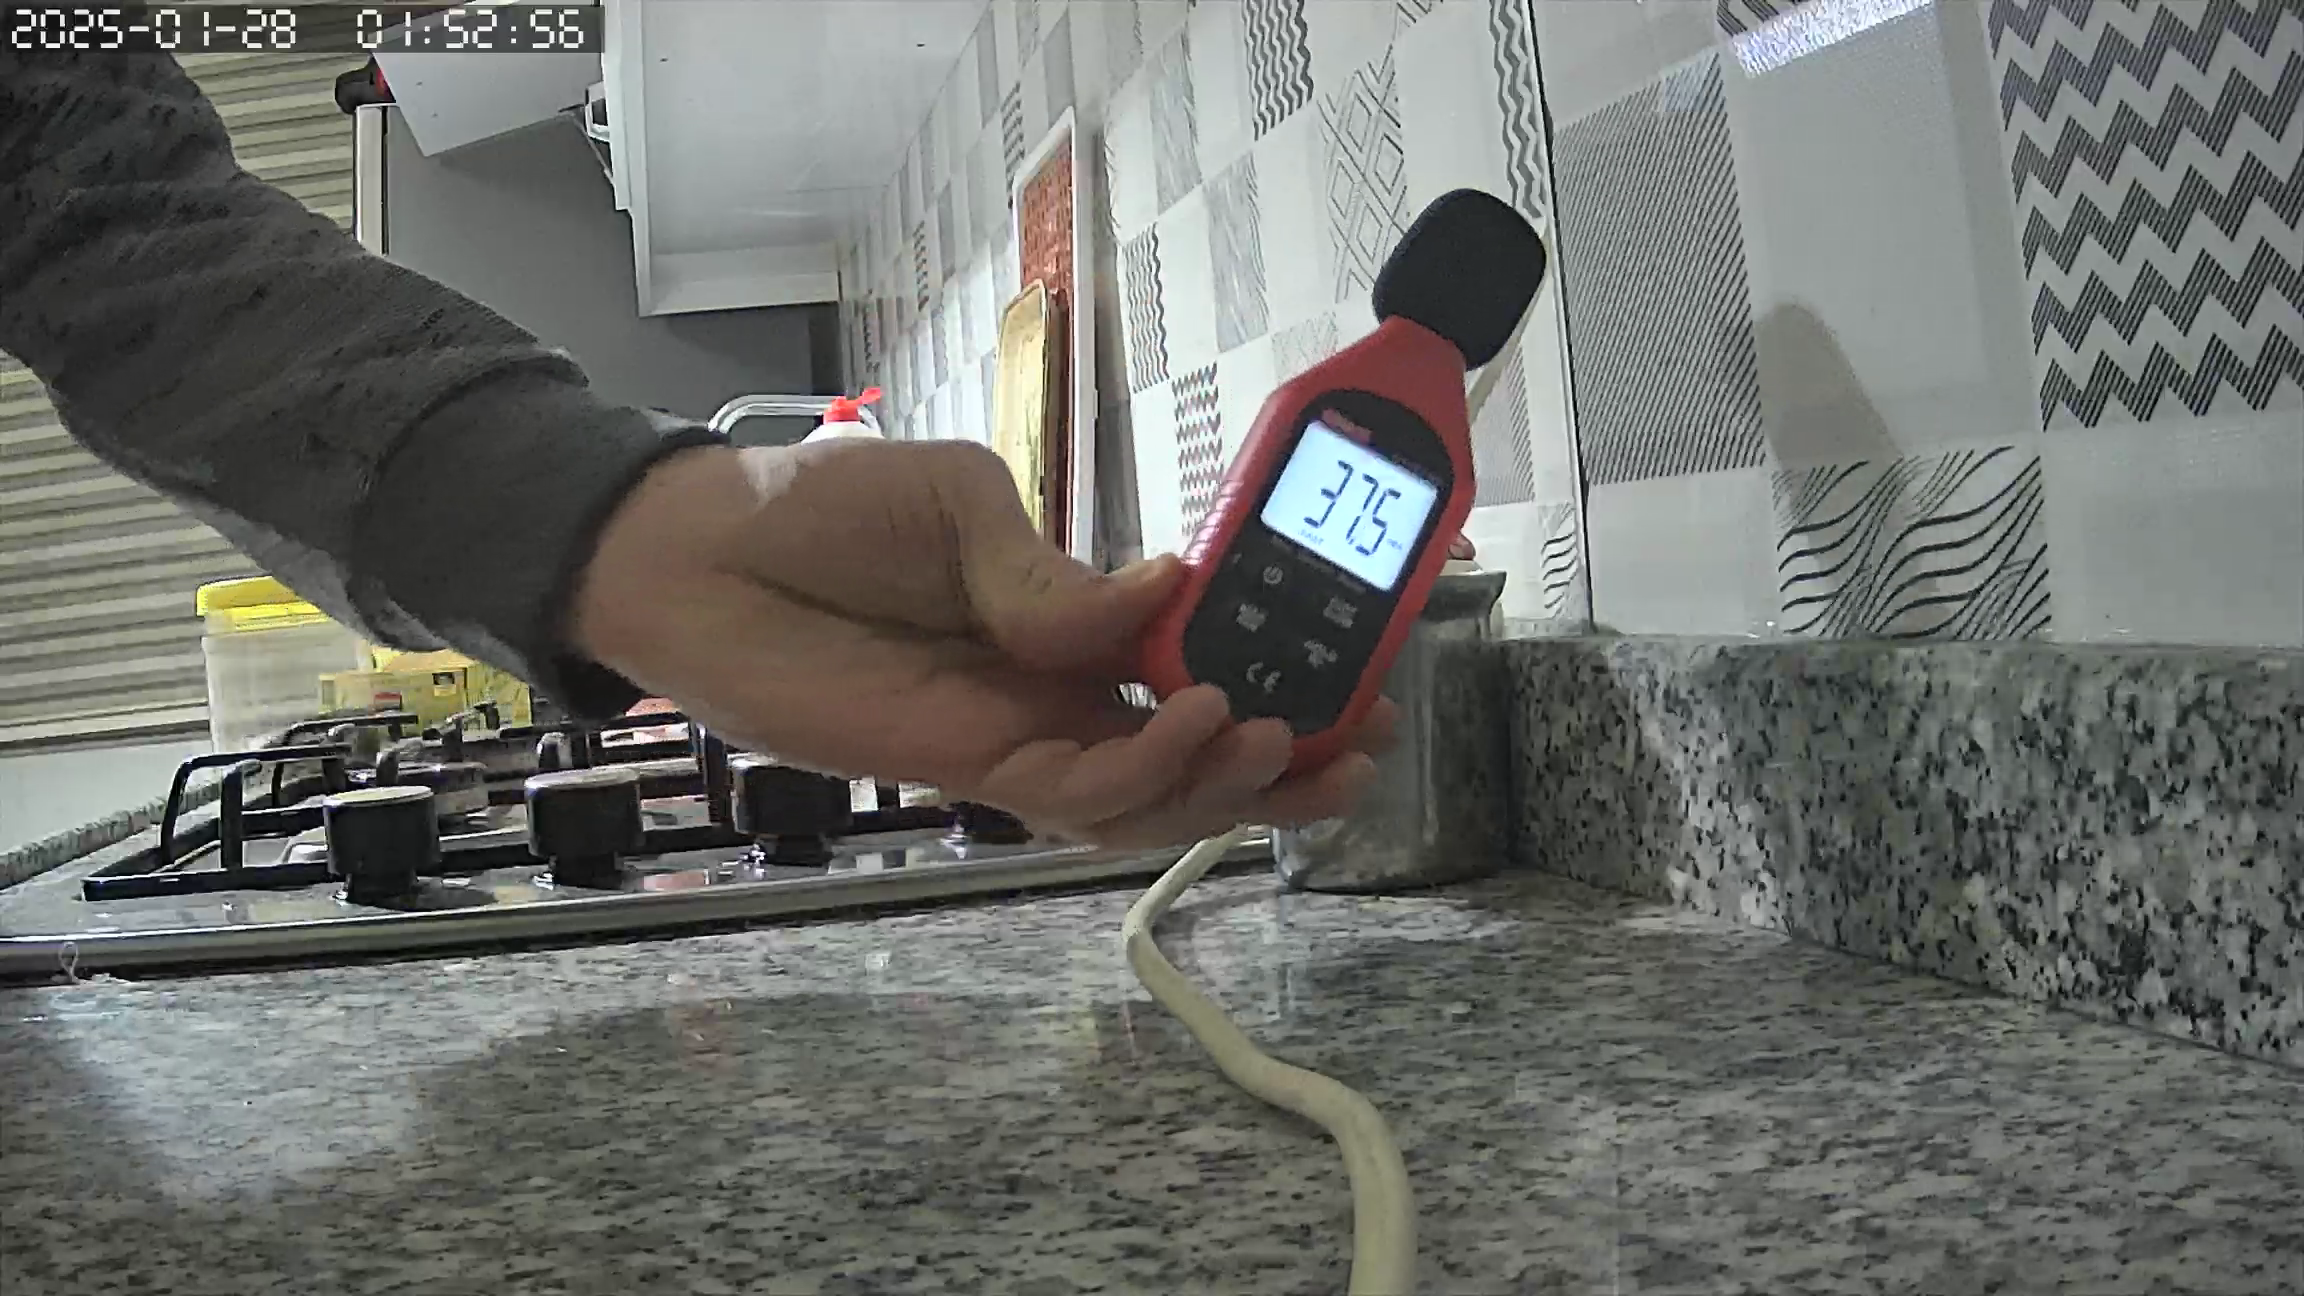screen: (1256, 421, 1438, 593)
